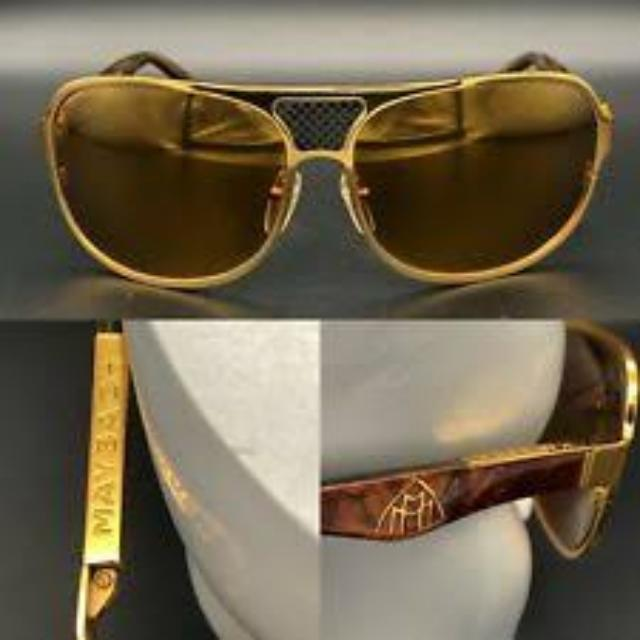sunglasses: (28, 41, 640, 301), (319, 322, 639, 566)
